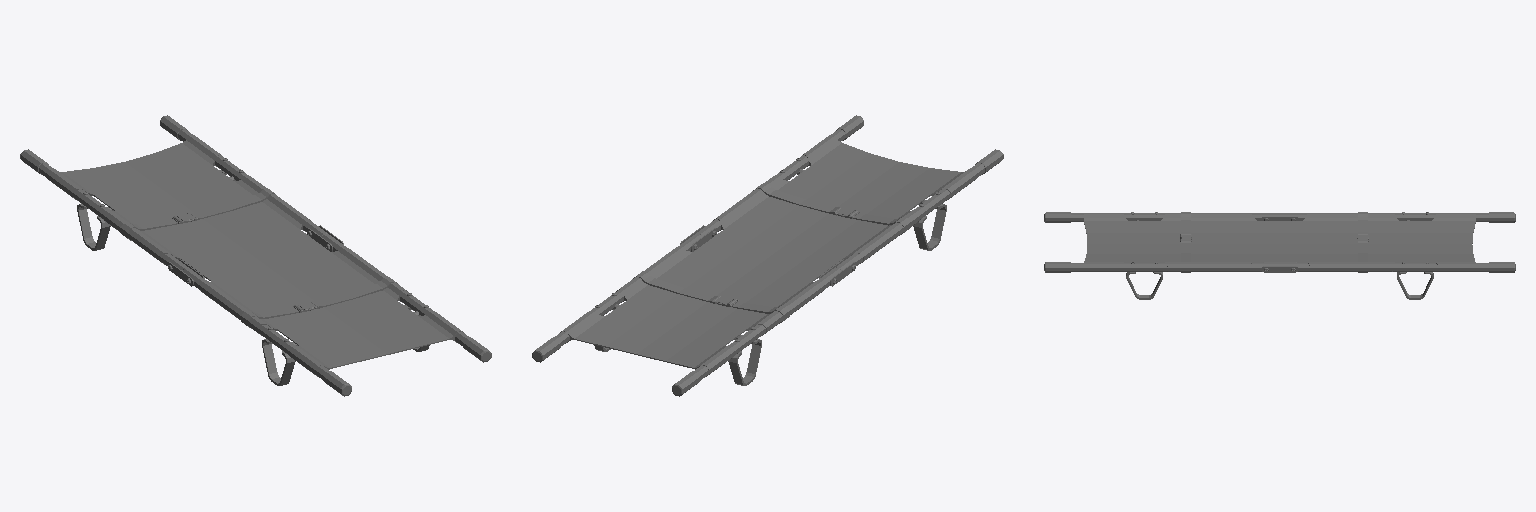
URDF robot description (stretcher_description):
<?xml version="1.0" ?>
<!-- =================================================================================== -->
<!-- |    Foldable stretcher for four-robot cooperative manipulation                    | -->
<!-- |    Mesh: foldable_stretcher.stl (scaled 0.01), origin at center                  | -->
<!-- |    Scaled size: ~2.05m (Z-long) x 0.57m (X-wide) x 0.17m (Y-tall)               | -->
<!-- =================================================================================== -->
<robot name="stretcher_description">
  <material name="stretcher_gray">
    <color rgba="0.5 0.5 0.5 1.0"/>
  </material>

  <!-- Stretcher link -->
  <link name="stretcher">
    <inertial>
      <mass value="5.0"/>
      <origin rpy="0 0 0" xyz="0 0 0"/>
      <inertia ixx="1.76" ixy="0.0" ixz="0.0" iyy="1.89" iyz="0.0" izz="0.15"/>
    </inertial>
    <visual>
      <geometry>
        <mesh filename="package://ocs2_multi_robot/assets/robot/b1z1_description/meshes/foldable_stretcher.stl"/>
      </geometry>
      <origin rpy="0 0 0" xyz="0 0 0"/>
      <material name="stretcher_gray"/>
    </visual>
    <collision>
      <geometry>
        <mesh filename="package://ocs2_multi_robot/assets/robot/b1z1_description/meshes/foldable_stretcher.stl"/>
      </geometry>
      <origin rpy="0 0 0" xyz="0 0 0"/>
    </collision>
  </link>

  <!-- IMU sensor link -->
  <joint name="imu_joint" type="fixed">
    <parent link="stretcher"/>
    <child link="stretcher_imu_link"/>
    <origin rpy="0 0 0" xyz="0 0 0"/>
  </joint>
  <link name="stretcher_imu_link">
    <inertial>
      <mass value="0.001"/>
      <origin rpy="0 0 0" xyz="0 0 0"/>
      <inertia ixx="0.0001" ixy="0" ixz="0" iyy="0.0001" iyz="0" izz="0.0001"/>
    </inertial>
    <visual>
      <origin rpy="0 0 0" xyz="0 0 0"/>
      <geometry>
        <box size="0.001 0.001 0.001"/>
      </geometry>
    </visual>
    <collision>
      <origin rpy="0 0 0" xyz="0 0 0"/>
      <geometry>
        <box size="0.001 0.001 0.001"/>
      </geometry>
    </collision>
  </link>
  <gazebo reference="stretcher_imu_link">
    <gravity>true</gravity>
    <sensor name="imu_sensor" type="imu">
      <always_on>true</always_on>
      <update_rate>1000</update_rate>
      <visualize>true</visualize>
      <topic>__default_topic__</topic>
      <plugin filename="libgazebo_ros_imu_sensor.so" name="imu_plugin">
        <topicName>cargo_imu</topicName>
        <bodyName>imu_link</bodyName>
        <updateRateHZ>1000.0</updateRateHZ>
        <gaussianNoise>0.0</gaussianNoise>
        <xyzOffset>0 0 0</xyzOffset>
        <rpyOffset>0 0 0</rpyOffset>
        <frameName>imu_link</frameName>
      </plugin>
      <pose>0 0 0 0 0 0</pose>
    </sensor>
  </gazebo>

</robot>

--- What the picture shows (computed from the rendered views, not written in the file) ---
Views: 3 orthographic renders of the robot side by side, from view 1: azimuth 30°, elevation 25°; view 2: azimuth 150°, elevation 25°; view 3: azimuth 270°, elevation 25°.
Robot: stretcher_description — 2 links, 1 joints (1 fixed); root link stretcher; default pose: every joint at zero.
Links seen in each view (by area): view 1: stretcher; view 2: stretcher; view 3: stretcher.
Boxes of the visible links, x1=… form: stretcher: x1=20, y1=115, x2=491, y2=396; stretcher: x1=532, y1=115, x2=1003, y2=396; stretcher: x1=1044, y1=212, x2=1515, y2=299.
Size in the robot's own frame: 0.5705 by 2.05 by 0.1754 metres.
Meshes: 1 distinct files referenced, 1 mesh visuals loaded (1 binary STL).
